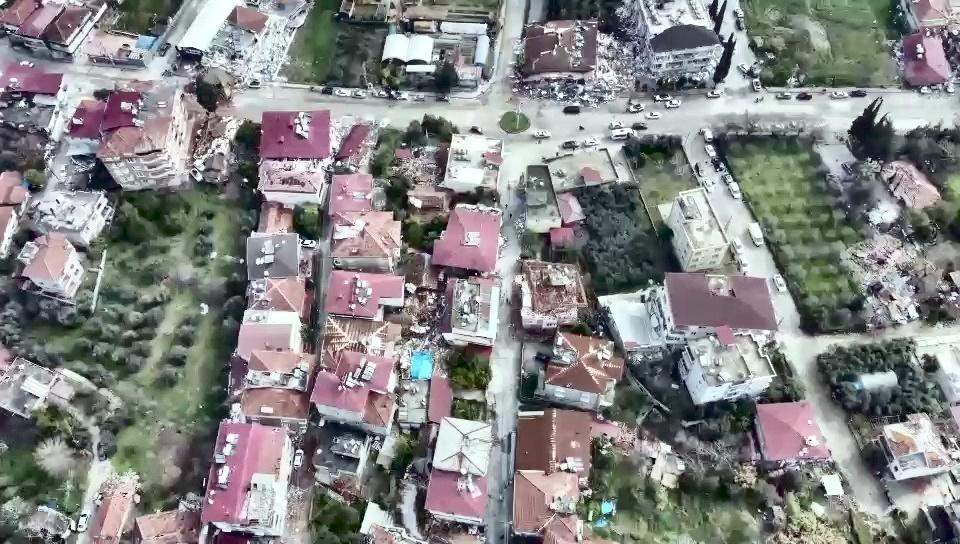kapali: (494, 264, 522, 349)
